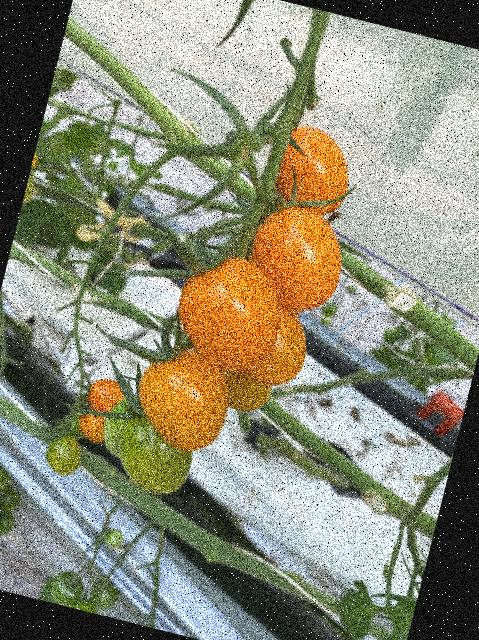l_green: (104, 407, 199, 502), (96, 389, 148, 462)
l_half_ripened: (164, 246, 294, 380), (237, 196, 355, 319), (124, 339, 240, 460), (270, 121, 360, 218), (242, 298, 316, 393), (210, 367, 274, 418)
